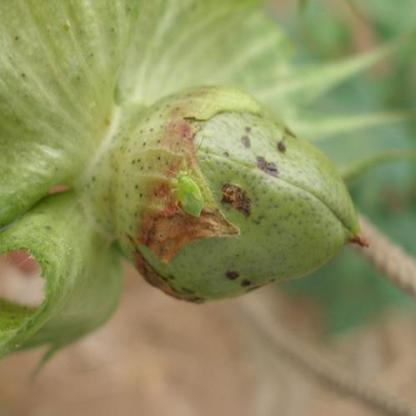aphid: (158, 150, 214, 227)
